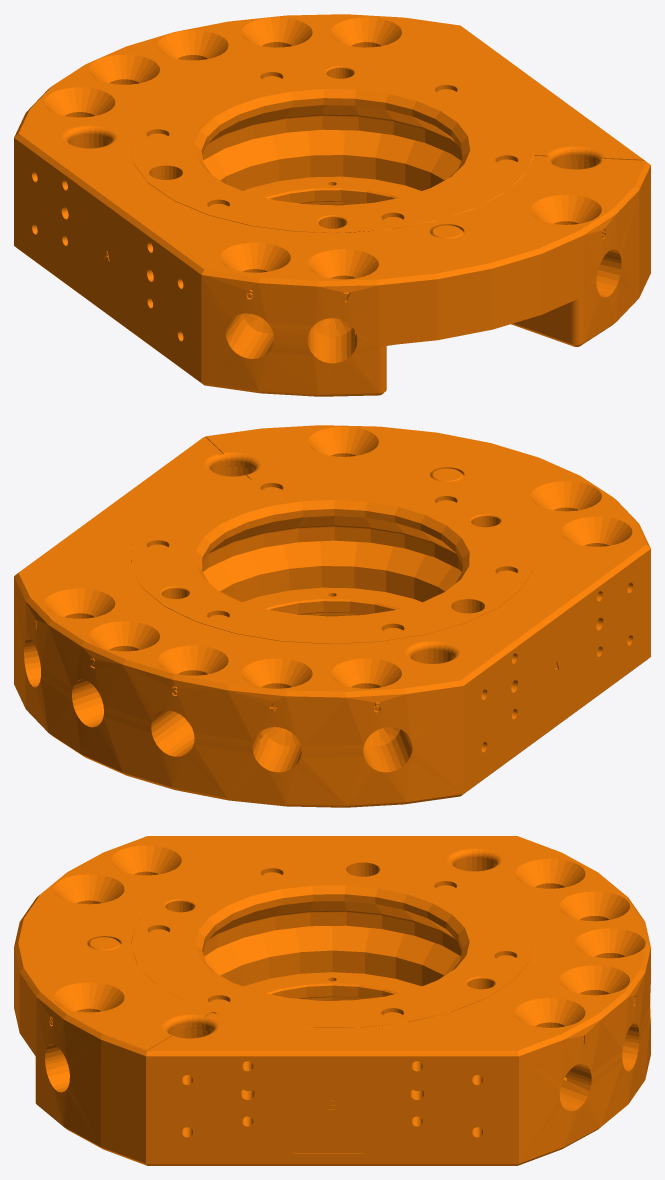
3 views of the same model, one above another, from view 1: azimuth 30°, elevation 25°; view 2: azimuth 150°, elevation 25°; view 3: azimuth 270°, elevation 25° (orthographic).
Visible parts, largest first — view 1: node0; view 2: node0; view 3: node0.
Boxes of the visible parts, bbox=[...] form: node0: bbox=[14, 14, 650, 396]; node0: bbox=[14, 425, 650, 807]; node0: bbox=[14, 836, 650, 1165].
Bounding box in the file's own units: 0.1524 × 0.188 × 0.0377.
